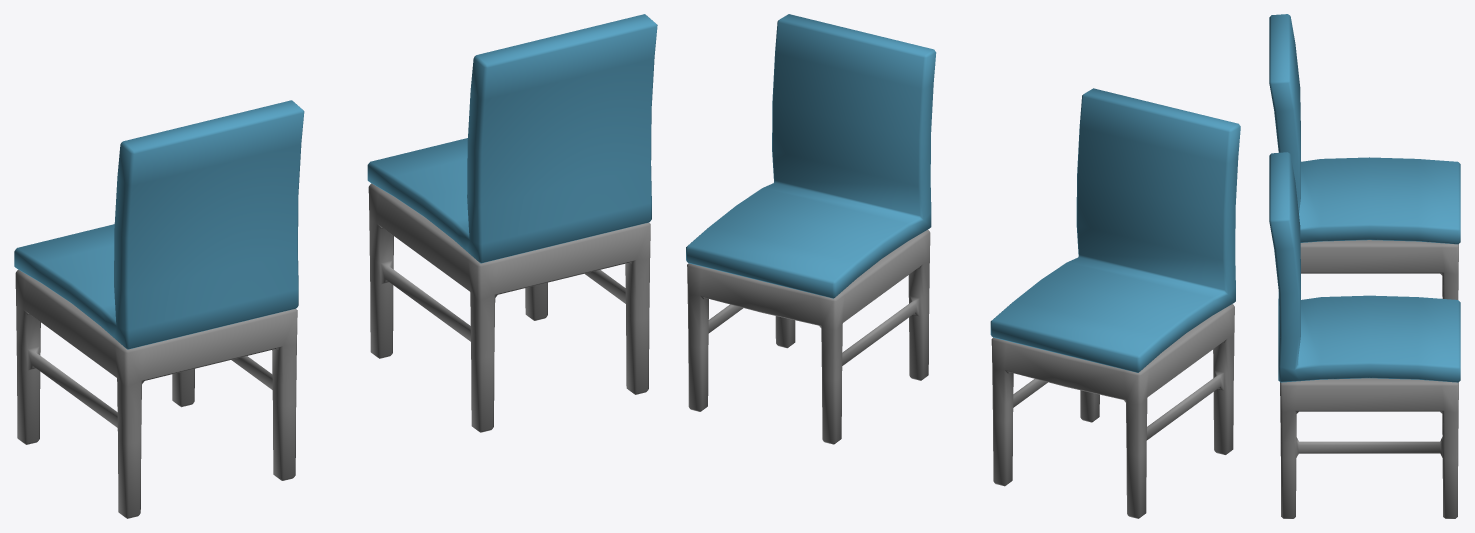
The model's file is cafeteria-chair-pair.glb.
3 renders of one model, left to right at view 1: azimuth 30°, elevation 25°; view 2: azimuth 150°, elevation 25°; view 3: azimuth 270°, elevation 25°, orthographic. The views are drawn at different scales.
Parts seen in each view (by area): view 1: Object_80; view 2: Object_80; view 3: Object_80.
Part boxes in pixels (x1,y1,x2,y2): Object_80: [14, 14, 657, 518]; Object_80: [686, 14, 1240, 518]; Object_80: [1269, 14, 1460, 518].
Bounding box in the file's own units: 1.65 × 1.12 × 0.6464.
1 material, 1 textured.
